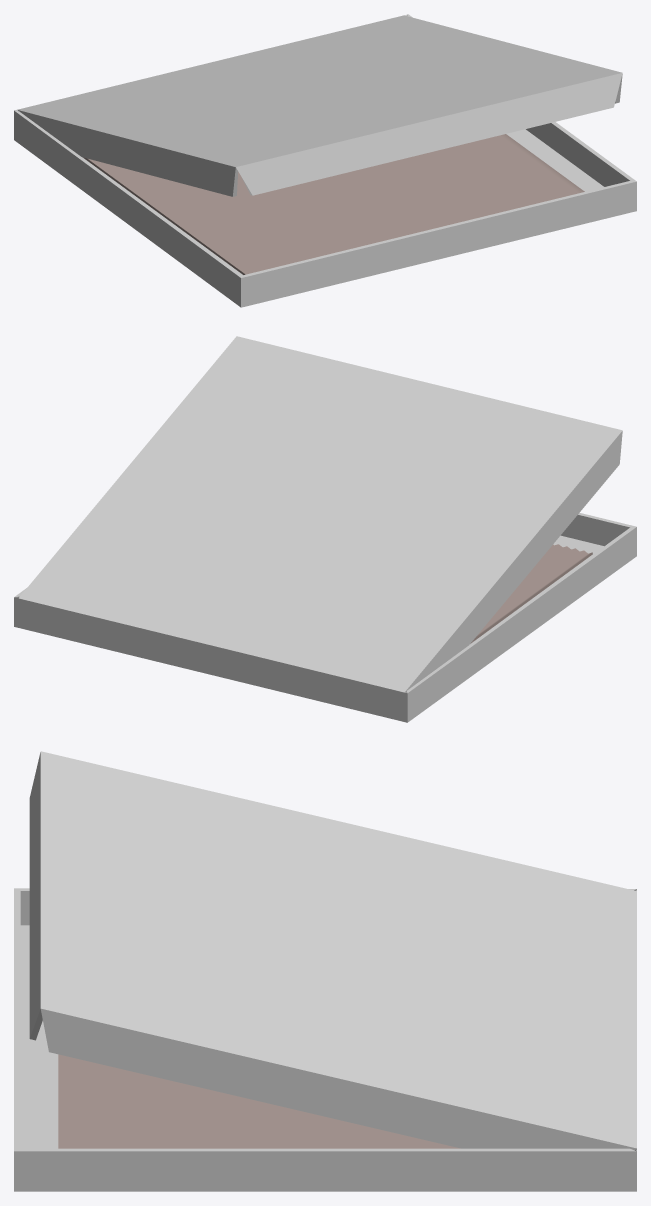
Rendered from PizzaBoxHalfOpen.fbx.
The picture shows the model from 3 angles, top to bottom: view 1: azimuth 30°, elevation 25°; view 2: azimuth 150°, elevation 25°; view 3: azimuth 270°, elevation 25°; orthographic projection. The views are drawn at different scales.
Visible parts, largest first — view 1: PizzaBoxHalfOpen; view 2: PizzaBoxHalfOpen; view 3: PizzaBoxHalfOpen.
Part boxes in pixels (x1,y1,x2,y2): PizzaBoxHalfOpen: (14,14,636,307); PizzaBoxHalfOpen: (14,336,636,722); PizzaBoxHalfOpen: (14,751,636,1191).
Size of the model in its own units: 14 by 4.47 by 14.
